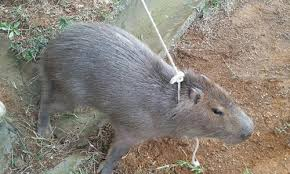capivara: (37, 21, 255, 173)
